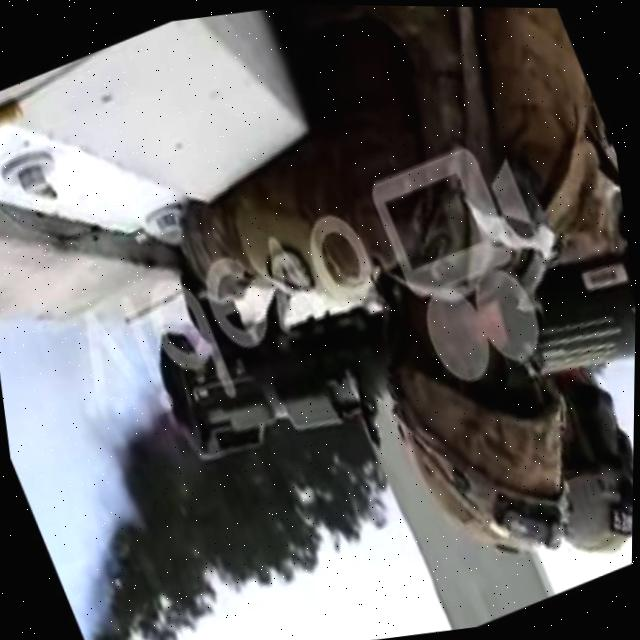rocket: (128, 152, 638, 536)
